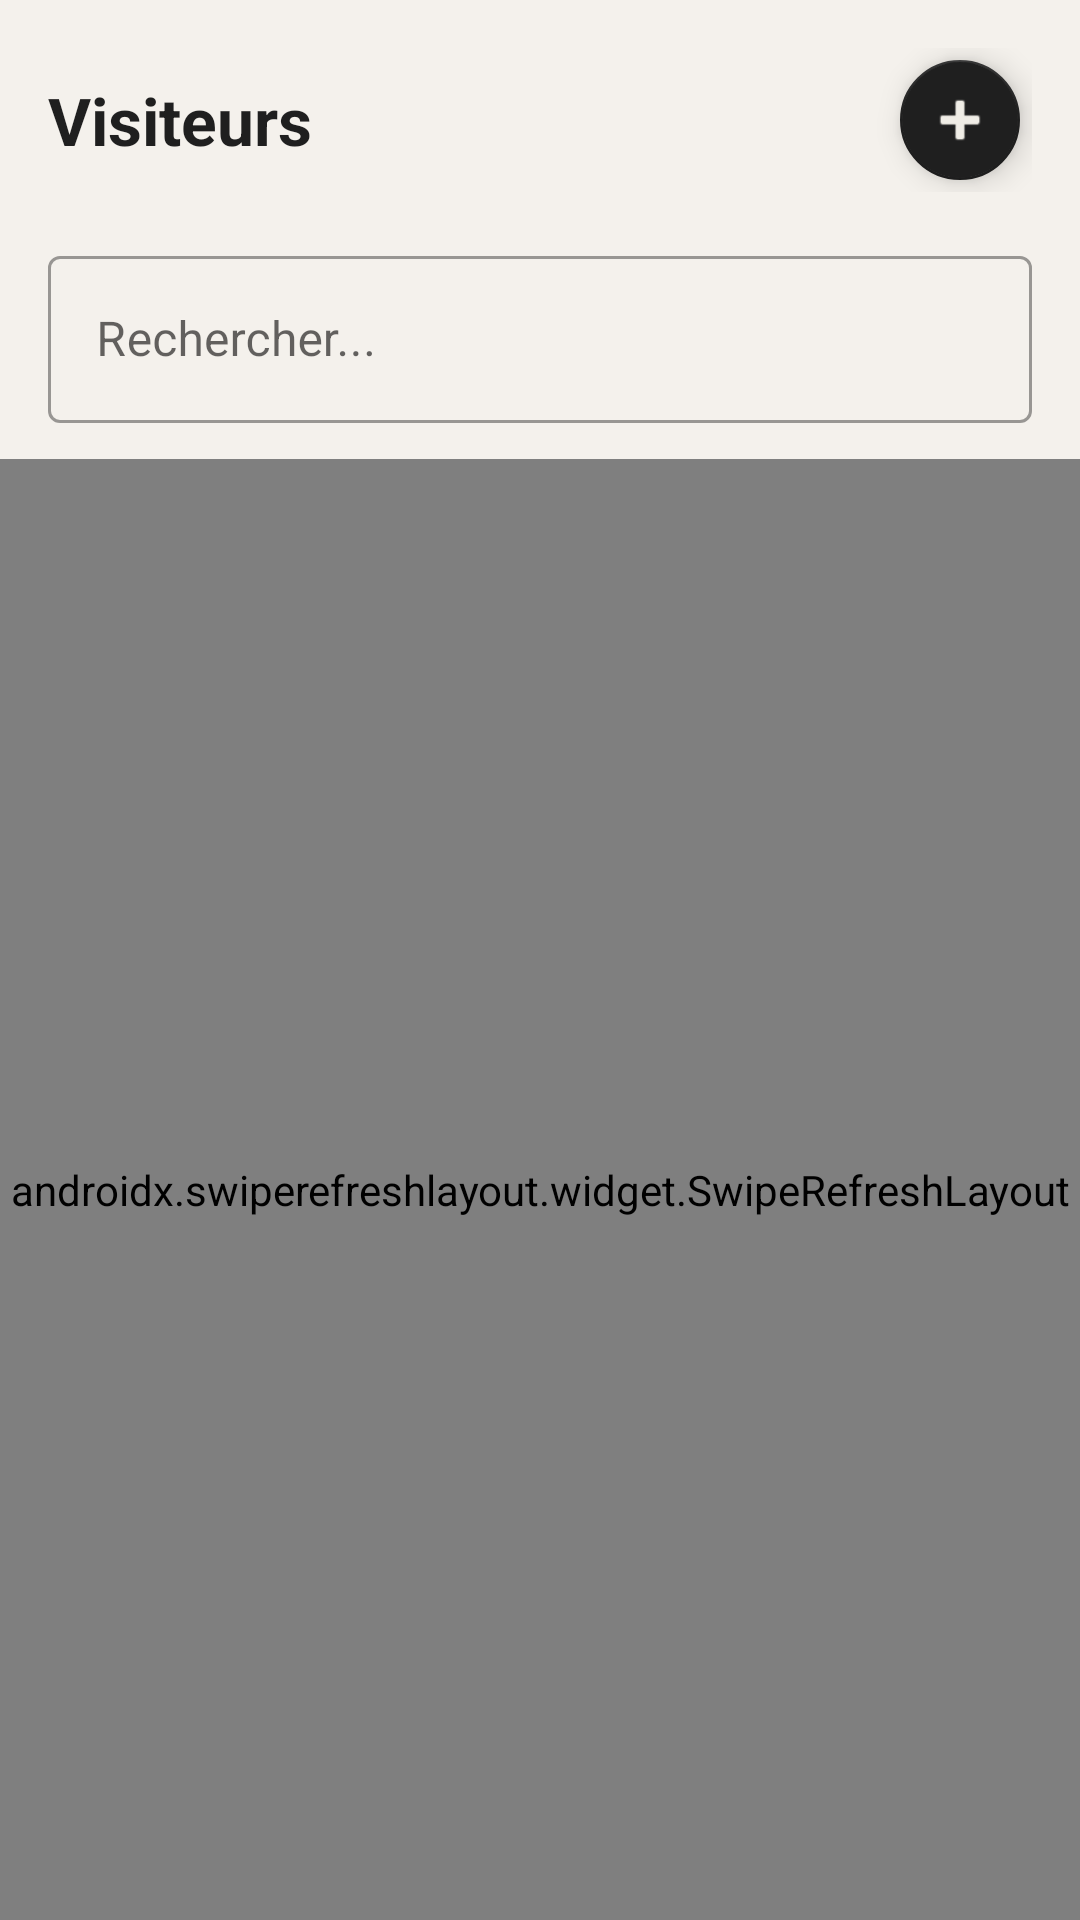

Where icons sit on this 1080px×1920px app screen, as {"left": x1, "top": y1, "right": x2, "bottom": y2}:
add: {"left": 900, "top": 60, "right": 1023, "bottom": 181}
